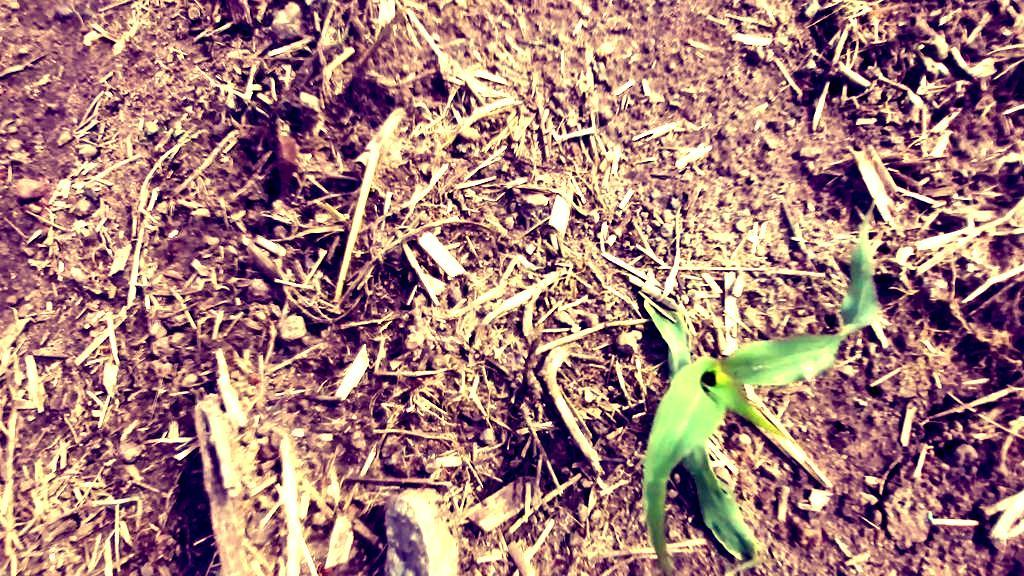BroWeed: (801, 58, 817, 75), (170, 126, 185, 141), (911, 39, 926, 53)
Maize: (638, 198, 885, 576)
